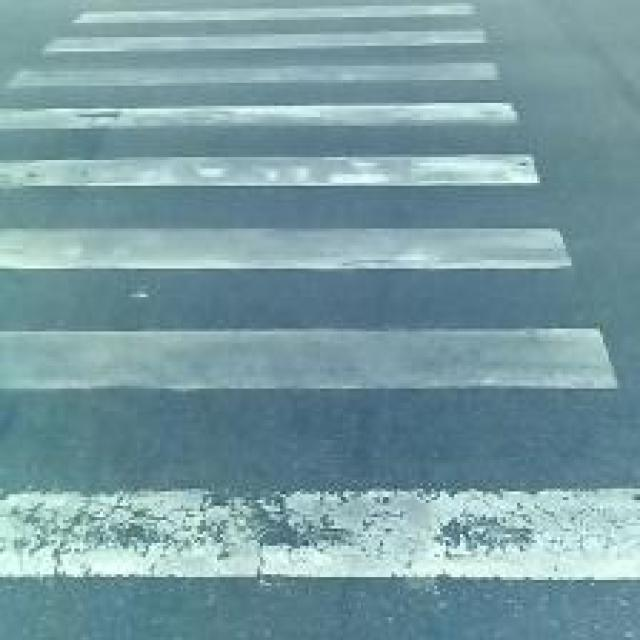crosswalk: (1, 1, 640, 591)
